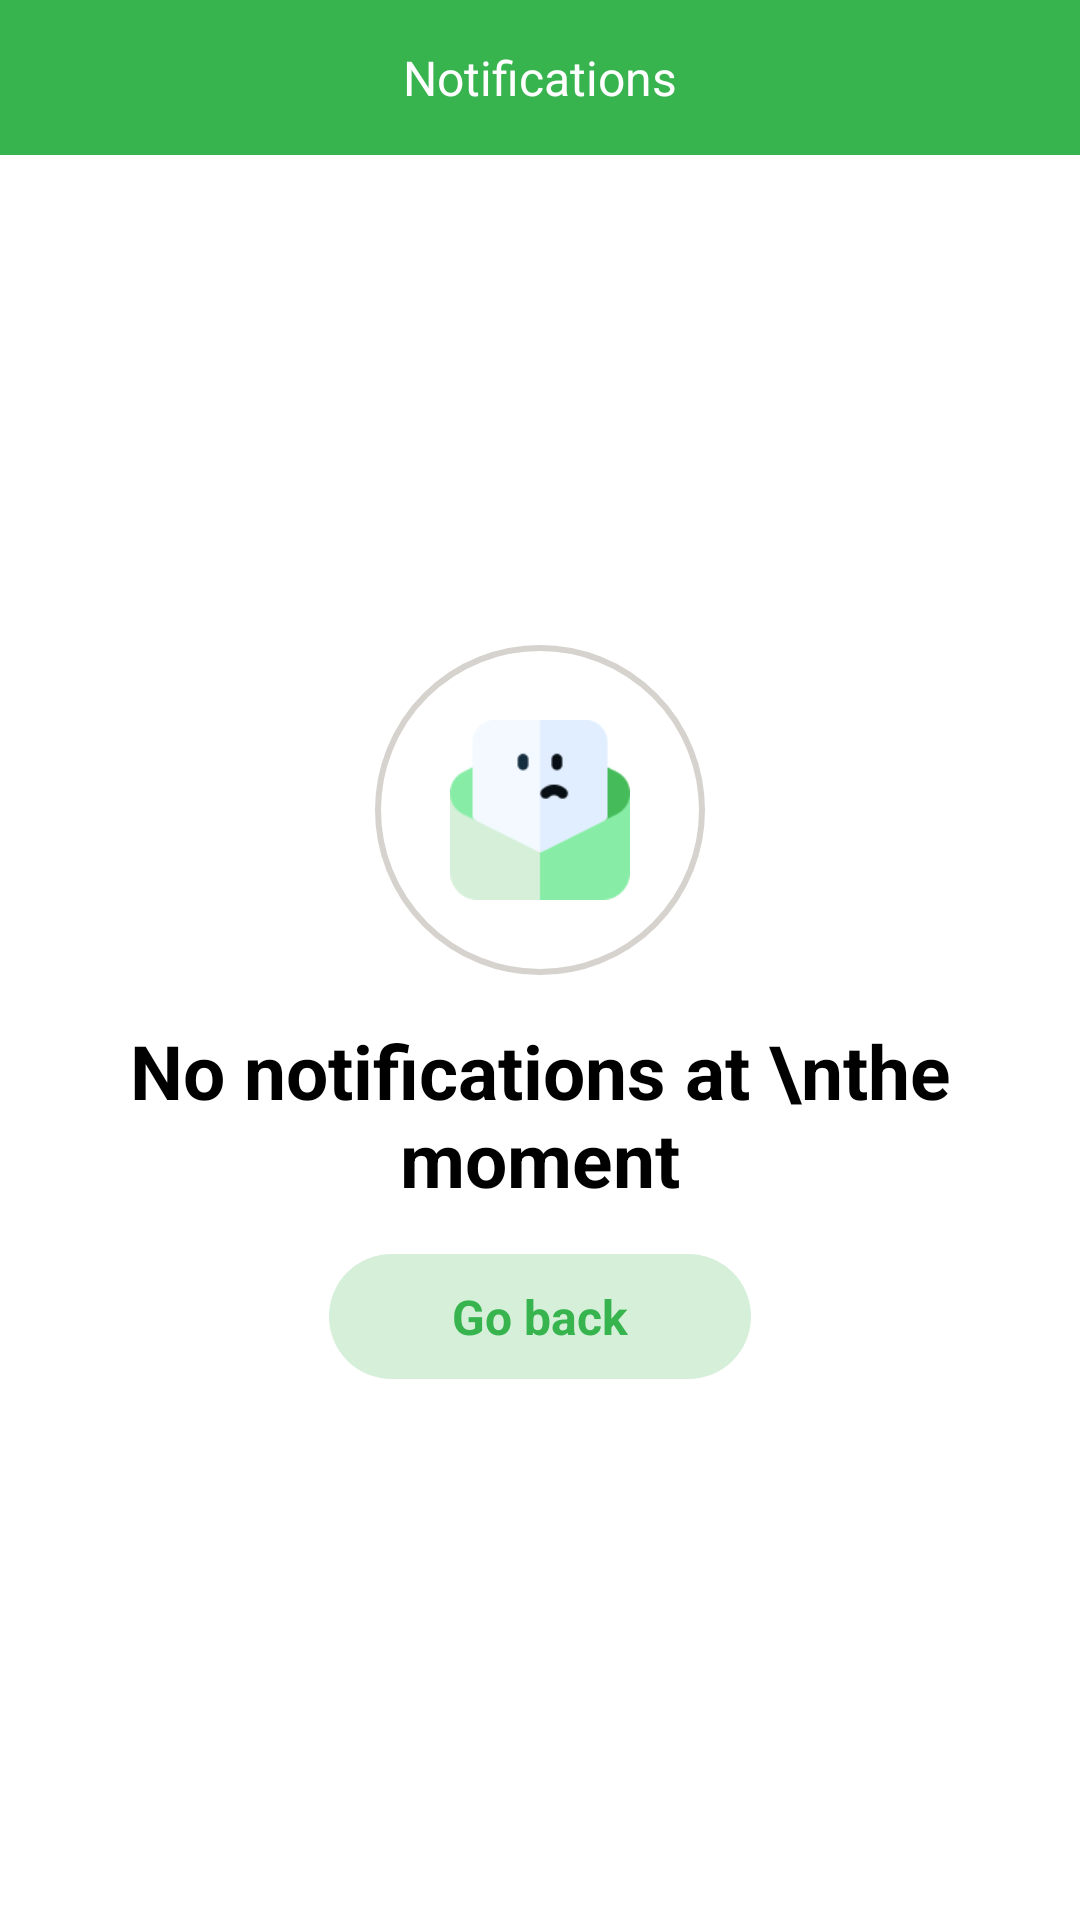

Icons on this 1080px x 1920px Android screen, each with the point to tap as (x,y):
notificaitons: (540,810)
